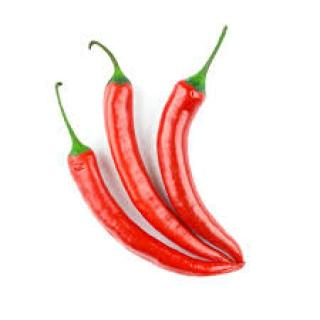Cabai Merah: (104, 80, 234, 262), (67, 150, 242, 276), (155, 80, 245, 263)
